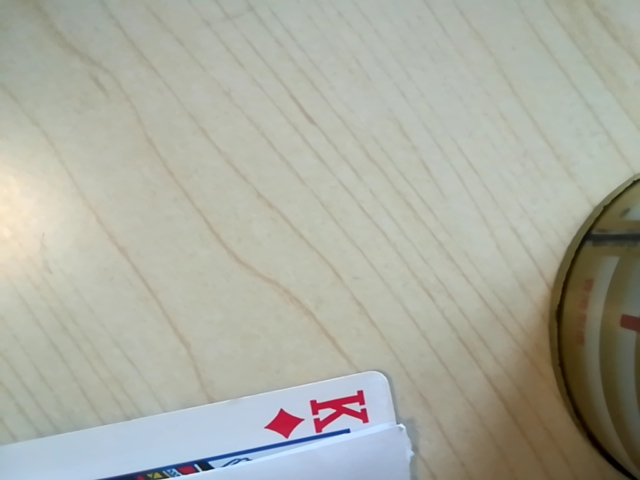fk k: (261, 386, 386, 450)
